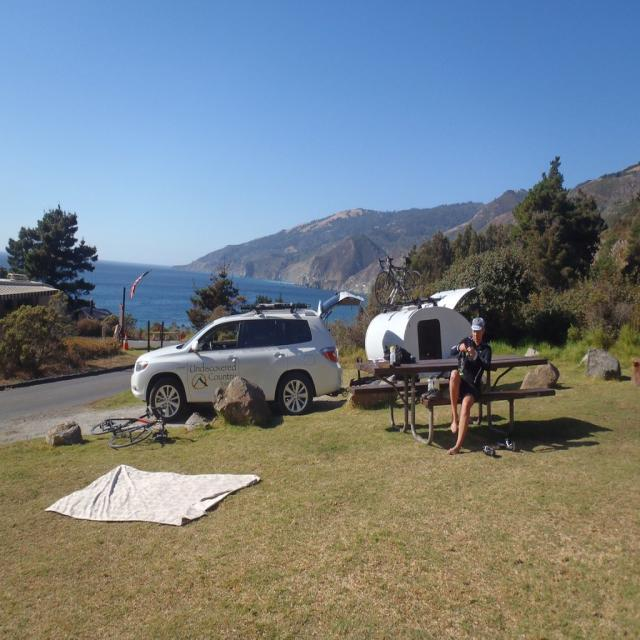car: (131, 291, 361, 415)
